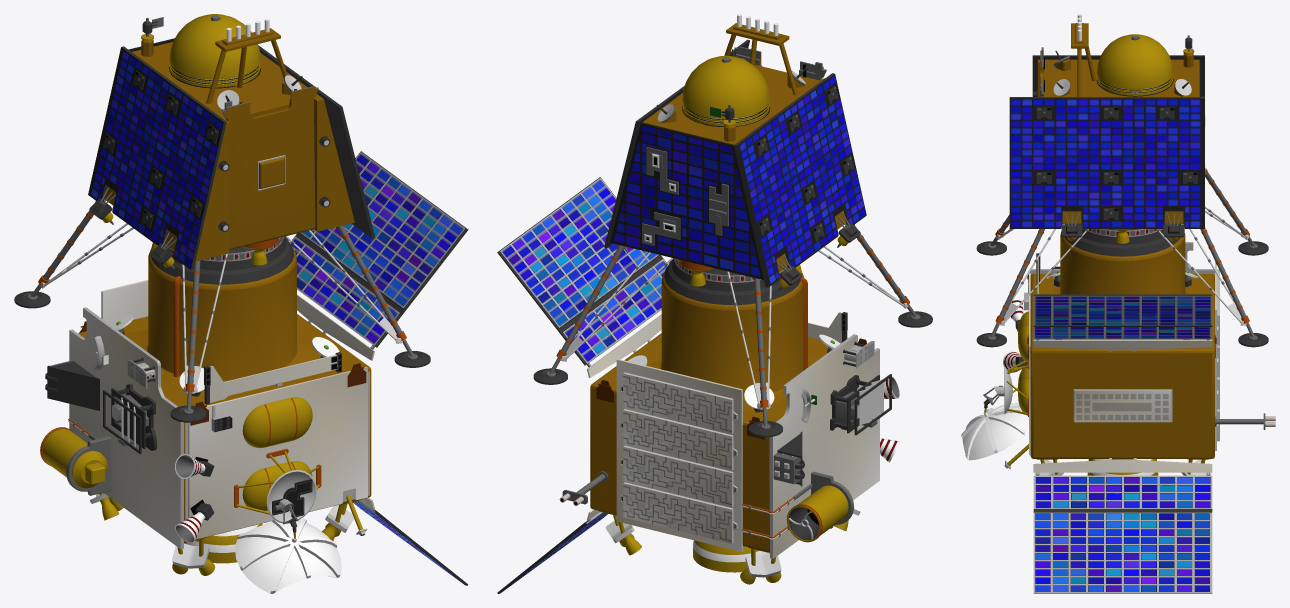
The model's file is chandrayaan-2_in_flight_configuration.glb.
The picture shows the model from 3 angles, left to right: view 1: azimuth 30°, elevation 25°; view 2: azimuth 150°, elevation 25°; view 3: azimuth 270°, elevation 25°; orthographic projection. The views are drawn at different scales.
Parts seen in each view (by area): view 1: Cahndrayaan_Orbiter, Vikram_Lander; view 2: Cahndrayaan_Orbiter, Vikram_Lander; view 3: Cahndrayaan_Orbiter, Vikram_Lander.
Boxes of the visible parts, left/top/right/bottom form: Cahndrayaan_Orbiter: left=40, top=151, right=468, bottom=593; Vikram_Lander: left=14, top=14, right=430, bottom=422; Cahndrayaan_Orbiter: left=497, top=177, right=899, bottom=593; Vikram_Lander: left=533, top=14, right=932, bottom=437; Cahndrayaan_Orbiter: left=961, top=224, right=1275, bottom=593; Vikram_Lander: left=976, top=14, right=1268, bottom=347.
Bounding box in the file's own units: 2.67 × 4.51 × 2.61.
Materials: 4 (2 with a texture image).
